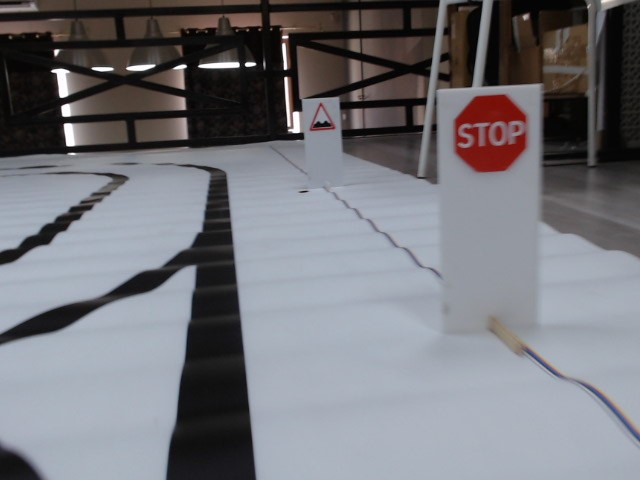Nerov: (309, 103, 335, 133)
Stop: (451, 95, 531, 169)
